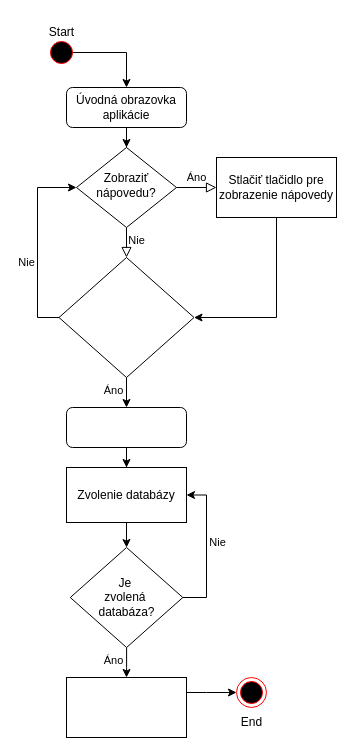
Some shapes in this 354 by 755 pixel diagram are drawn without their labels. Here are the shapes that lost their labels. From the top down, the centre of each, then its label:
[126,317]: Pokračovať do skenovacej obrazovky aplikácie?
[126,427]: Skenovacia obrazovka aplikácie
[126,707]: Začatie skenovania zvolenej databázy objektov
